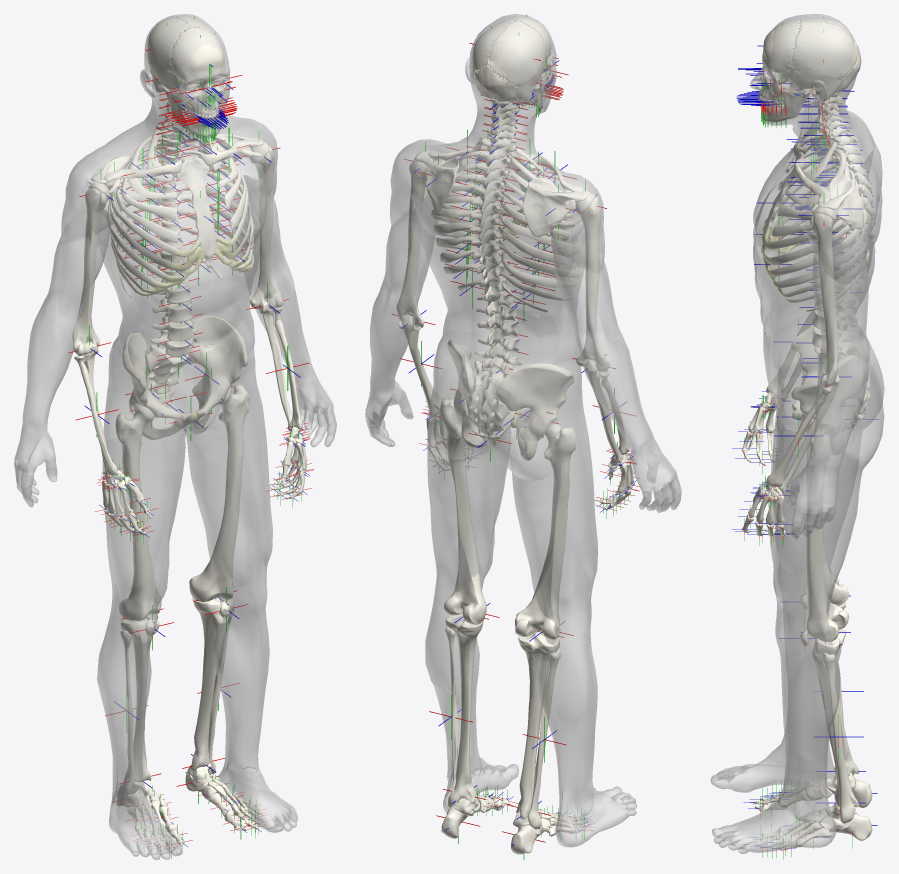
File: AllBonesCollection.glb
3 renders of one model, left to right at view 1: azimuth 30°, elevation 25°; view 2: azimuth 150°, elevation 25°; view 3: azimuth 270°, elevation 25°, orthographic.
Parts seen in each view (by area): view 1: Inline1/body, l_thigh/l_femur/Shape_222, r_thigh/r_femur/Shape_1050, pelvis/l_hip_bone/Shape_105, l_calf/l_tibia/Shape_285, r_upperarm/r_humerus/Shape_6023, l_upperarm/l_humerus/Shape_4394, pelvis/r_hip_bone/Shape_132, skull/frontal/Shape_2772, r_calf/r_tibia/Shape_1113, chest/sternum/Shape_5231, sacrum_bone/Shape_42 (+17 smaller); view 2: Inline1/body, r_thigh/r_femur/Shape_1050, l_thigh/l_femur/Shape_222, pelvis/r_hip_bone/Shape_132, r_calf/r_tibia/Shape_1113, l_calf/l_tibia/Shape_285, r_upperarm/r_humerus/Shape_6023, skull/r_parietal/Shape_3069, l_upperarm/l_humerus/Shape_4394, r_scapula/Shape_5987, sacrum_bone/Shape_42, pelvis/l_hip_bone/Shape_105 (+13 smaller); view 3: Inline1/body, l_thigh/l_femur/Shape_222, skull/l_parietal/Shape_3042, pelvis/l_hip_bone/Shape_105, l_upperarm/l_humerus/Shape_4394, l_calf/l_tibia/Shape_285, l_calf/l_fibula/Shape_312, l_scapula/Shape_4358, skull/frontal/Shape_2772, pelvis/r_hip_bone/Shape_132, skull/l_temporal/Shape_3177, l_forearm/l_radius/Shape_4430 (+23 smaller).
Boxes of the visible parts, x1,y1,x2,y2 form: Inline1/body: (14,14,336,859); l_thigh/l_femur/Shape_222: (189,384,249,601); r_thigh/r_femur/Shape_1050: (115,402,161,621); pelvis/l_hip_bone/Shape_105: (187,315,247,428); l_calf/l_tibia/Shape_285: (190,597,233,771); r_upperarm/r_humerus/Shape_6023: (72,182,110,356); l_upperarm/l_humerus/Shape_4394: (249,141,283,313); pelvis/r_hip_bone/Shape_132: (122,332,191,440); skull/frontal/Shape_2772: (170,26,225,84); r_calf/r_tibia/Shape_1113: (120,613,158,781); chest/sternum/Shape_5231: (176,157,217,268); sacrum_bone/Shape_42: (145,337,200,393); Inline1/body: (365,14,681,847); r_thigh/r_femur/Shape_1050: (515,414,576,639); l_thigh/l_femur/Shape_222: (440,398,486,624); pelvis/r_hip_bone/Shape_132: (496,363,573,460); r_calf/r_tibia/Shape_1113: (516,631,559,819); l_calf/l_tibia/Shape_285: (445,613,483,803); r_upperarm/r_humerus/Shape_6023: (575,193,609,371); skull/r_parietal/Shape_3069: (487,20,547,87); l_upperarm/l_humerus/Shape_4394: (396,154,433,330); r_scapula/Shape_5987: (523,178,589,237); sacrum_bone/Shape_42: (466,360,510,435); pelvis/l_hip_bone/Shape_105: (447,340,514,447); Inline1/body: (710,14,884,853); l_thigh/l_femur/Shape_222: (806,418,849,641); skull/l_parietal/Shape_3042: (788,21,858,79); pelvis/l_hip_bone/Shape_105: (791,355,869,455); l_upperarm/l_humerus/Shape_4394: (810,207,837,387); l_calf/l_tibia/Shape_285: (812,628,859,807); l_calf/l_fibula/Shape_312: (822,653,855,823); l_scapula/Shape_4358: (811,174,863,229); skull/frontal/Shape_2772: (763,19,801,72); pelvis/r_hip_bone/Shape_132: (791,325,869,417); skull/l_temporal/Shape_3177: (790,69,841,101); l_forearm/l_radius/Shape_4430: (766,387,831,486).
Bounding box in the file's own units: 0.7157 × 1.79 × 0.3466.
